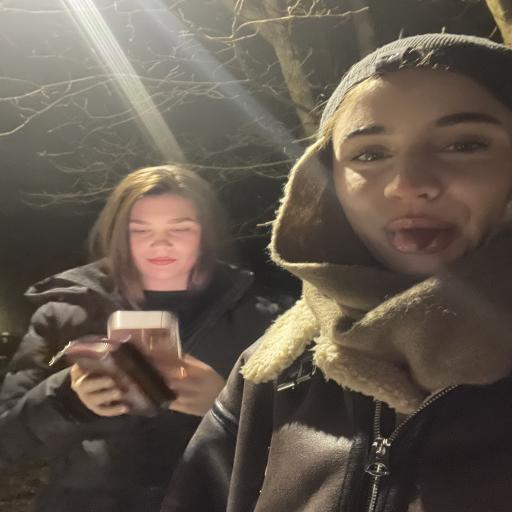masa: (328, 83, 512, 285)
